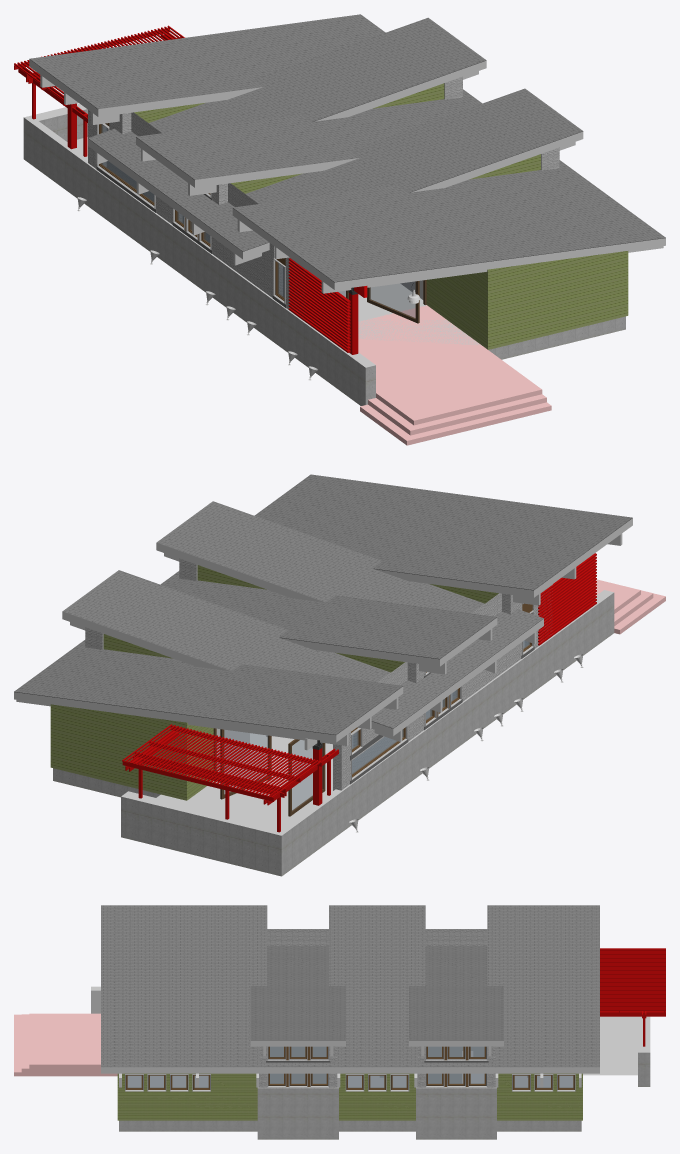
Rendered from housing.obj.
The picture shows the model from 3 angles, top to bottom: view 1: azimuth 30°, elevation 25°; view 2: azimuth 150°, elevation 25°; view 3: azimuth 270°, elevation 25°; orthographic projection. The views are drawn at different scales.
Parts seen in each view (by area): view 1: Mesh266 Group65 Model, Mesh130 Group53 Model, Mesh123 Group49 Model, Mesh131 Group54 Model, Mesh267 Group66 Model, Mesh149 Group59 Model, Mesh132 Group55 Model, Mesh268 Group67 Model, Mesh426 Group185 Component_63_1 Model; view 2: Mesh266 Group65 Model, Mesh130 Group53 Model, Mesh131 Group54 Model, Mesh267 Group66 Model, Mesh149 Group59 Model, Mesh424 Component_62_1 Model, Mesh132 Group55 Model, Mesh123 Group49 Model, Mesh268 Group67 Model, Mesh433 Group189 Component_63_2 Model, Mesh435 Group191 Component_63_2 Model, Mesh63 Component_22_3 Group4 Model (+1 smaller); view 3: Mesh266 Group65 Model, Mesh131 Group54 Model, Mesh123 Group49 Model, Mesh267 Group66 Model, Mesh130 Group53 Model, Mesh376 Component_39_2 Component_40_2 Model, Mesh341 Component_39_1 Component_40_1 Model, Mesh424 Component_62_1 Model, Mesh149 Group59 Model, Mesh132 Group55 Model, Mesh268 Group67 Model, Mesh323 Group121 Component_40_1 Model (+1 smaller).
Part boxes in pixels (box(x1,y1,x2,y2)): Mesh266 Group65 Model: box(29, 14, 665, 282); Mesh130 Group53 Model: box(23, 103, 625, 405); Mesh123 Group49 Model: box(358, 305, 551, 445); Mesh131 Group54 Model: box(373, 83, 628, 349); Mesh267 Group66 Model: box(29, 59, 665, 289); Mesh149 Group59 Model: box(88, 110, 305, 317); Mesh132 Group55 Model: box(338, 283, 481, 345); Mesh268 Group67 Model: box(29, 66, 665, 289); Mesh426 Group185 Component_63_1 Model: box(370, 281, 415, 318); Mesh266 Group65 Model: box(14, 474, 632, 734); Mesh130 Group53 Model: box(53, 590, 614, 876); Mesh131 Group54 Model: box(50, 565, 271, 800); Mesh267 Group66 Model: box(14, 518, 632, 741); Mesh149 Group59 Model: box(333, 584, 552, 790); Mesh424 Component_62_1 Model: box(156, 781, 312, 828); Mesh132 Group55 Model: box(217, 733, 332, 805); Mesh123 Group49 Model: box(595, 579, 665, 634); Mesh268 Group67 Model: box(14, 525, 632, 742); Mesh433 Group189 Component_63_2 Model: box(224, 730, 267, 794); Mesh435 Group191 Component_63_2 Model: box(292, 740, 322, 810); Mesh63 Component_22_3 Group4 Model: box(122, 761, 274, 801); Mesh266 Group65 Model: box(101, 905, 599, 1067); Mesh131 Group54 Model: box(117, 1047, 582, 1120); Mesh123 Group49 Model: box(14, 1013, 117, 1076); Mesh267 Group66 Model: box(101, 1040, 599, 1073); Mesh130 Group53 Model: box(91, 986, 650, 1131); Mesh376 Component_39_2 Component_40_2 Model: box(257, 1087, 338, 1139); Mesh341 Component_39_1 Component_40_1 Model: box(416, 1087, 496, 1139); Mesh424 Component_62_1 Model: box(583, 1016, 637, 1075); Mesh149 Group59 Model: box(267, 929, 487, 945); Mesh132 Group55 Model: box(128, 1051, 572, 1087); Mesh268 Group67 Model: box(101, 1046, 599, 1073); Mesh323 Group121 Component_40_1 Model: box(417, 1046, 495, 1087).
Bounding box in the file's own units: 459 × 168 × 932.
